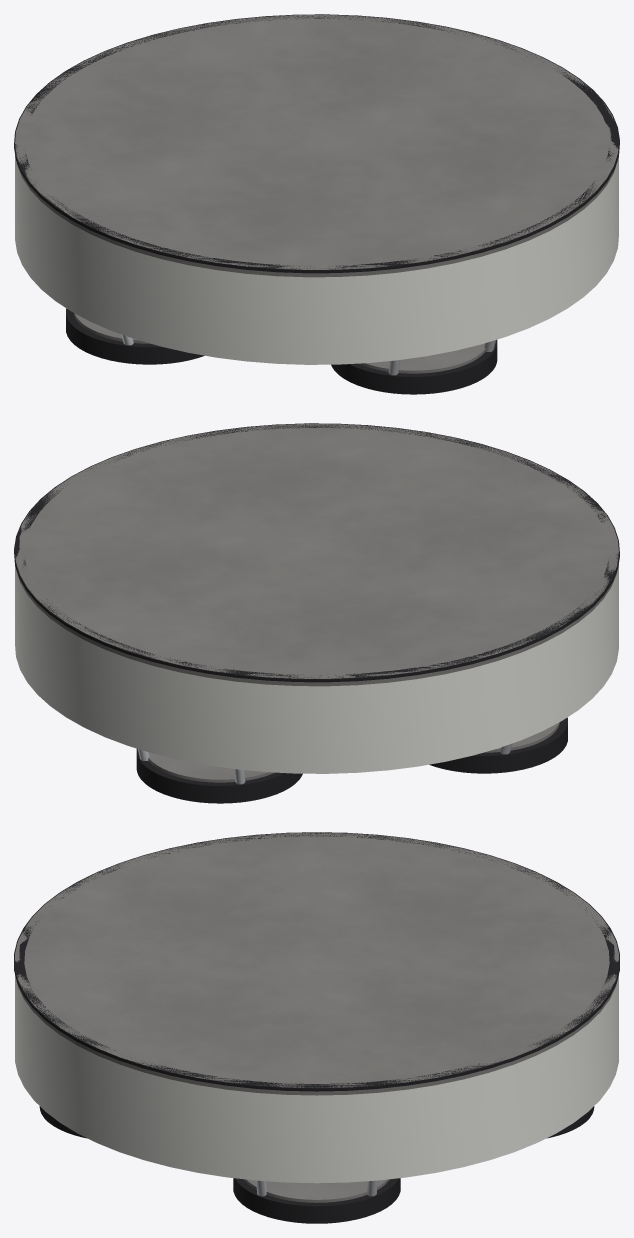
Rendered from stage12_multi_coupler_quad_l_s.glb.
The picture shows the model from 3 angles, top to bottom: view 1: azimuth 30°, elevation 25°; view 2: azimuth 150°, elevation 25°; view 3: azimuth 270°, elevation 25°; orthographic projection.
Visible parts, largest first — view 1: thrust_plate, skirt, top_flange, engine_mounts, mount_plates; view 2: thrust_plate, skirt, top_flange, engine_mounts, mount_plates; view 3: thrust_plate, skirt, top_flange, engine_mounts, mount_plates.
Boxes of the visible parts, x1=… form: thrust_plate: x1=15, y1=14, x2=618, y2=277; skirt: x1=15, y1=155, x2=618, y2=364; top_flange: x1=14, y1=14, x2=619, y2=273; engine_mounts: x1=66, y1=308, x2=497, y2=394; mount_plates: x1=74, y1=313, x2=485, y2=373; thrust_plate: x1=15, y1=423, x2=618, y2=686; skirt: x1=15, y1=564, x2=618, y2=773; top_flange: x1=14, y1=423, x2=619, y2=682; engine_mounts: x1=136, y1=717, x2=567, y2=803; mount_plates: x1=148, y1=722, x2=559, y2=782; thrust_plate: x1=15, y1=832, x2=618, y2=1095; skirt: x1=15, y1=975, x2=618, y2=1183; top_flange: x1=14, y1=832, x2=619, y2=1091; engine_mounts: x1=39, y1=1106, x2=594, y2=1223; mount_plates: x1=244, y1=1179, x2=389, y2=1202.
Bounding box in the file's own units: 3.76 × 1 × 3.76.
Materials: 4 (2 with a texture image).
